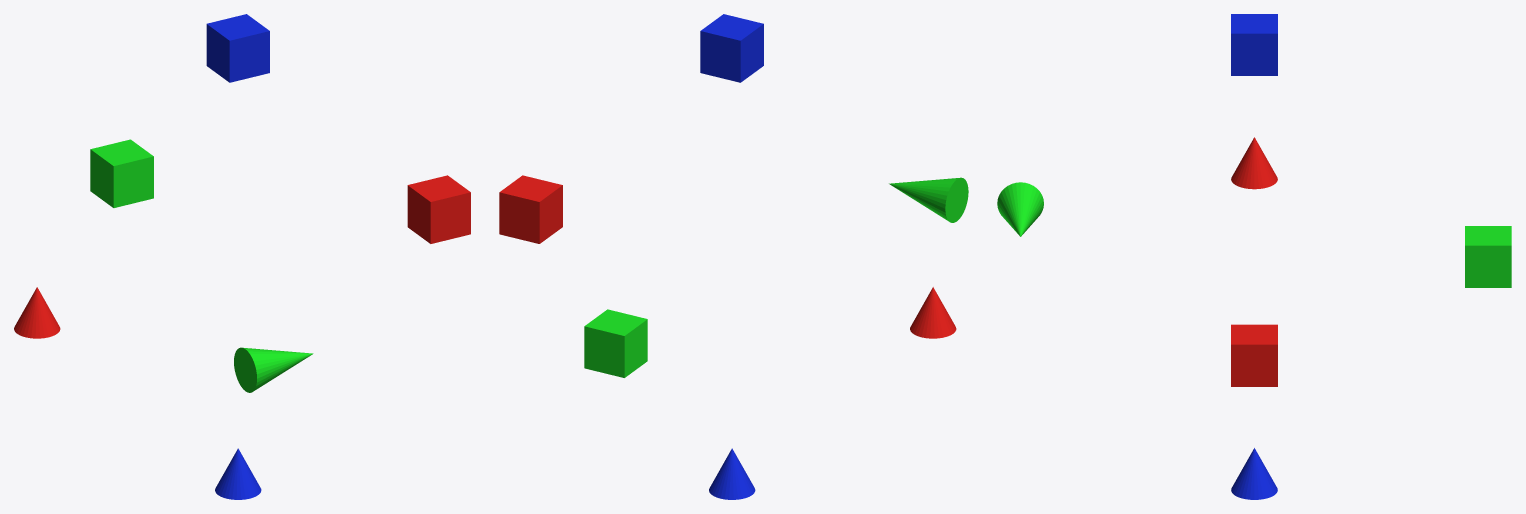
Rendered from cubes4.gltf.
3 views of the same model, side by side, from view 1: azimuth 30°, elevation 25°; view 2: azimuth 150°, elevation 25°; view 3: azimuth 270°, elevation 25° (orthographic).
Parts seen in each view (by area): view 1: CubeY, Cube, CubeX, Cone.001, Cone, Cone.002; view 2: CubeX, Cube, CubeY, Cone.001, Cone, Cone.002; view 3: CubeX, CubeY, Cube, Cone.001, Cone.002, Cone.
Part boxes in pixels (<box>): CubeY: <box>90,139,153,207</box>; Cube: <box>206,14,269,82</box>; CubeX: <box>407,175,470,243</box>; Cone.001: <box>234,347,313,392</box>; Cone: <box>14,287,60,338</box>; Cone.002: <box>215,448,261,499</box>; CubeX: <box>499,175,562,243</box>; Cube: <box>700,14,763,82</box>; CubeY: <box>584,309,647,377</box>; Cone.001: <box>889,177,968,222</box>; Cone: <box>910,287,956,338</box>; Cone.002: <box>709,448,755,499</box>; CubeX: <box>1231,324,1277,386</box>; CubeY: <box>1465,226,1511,287</box>; Cube: <box>1231,14,1277,75</box>; Cone.001: <box>997,182,1043,236</box>; Cone.002: <box>1231,448,1277,499</box>; Cone: <box>1231,137,1277,189</box>.
Size of the model in its own units: 22 by 22 by 22.
